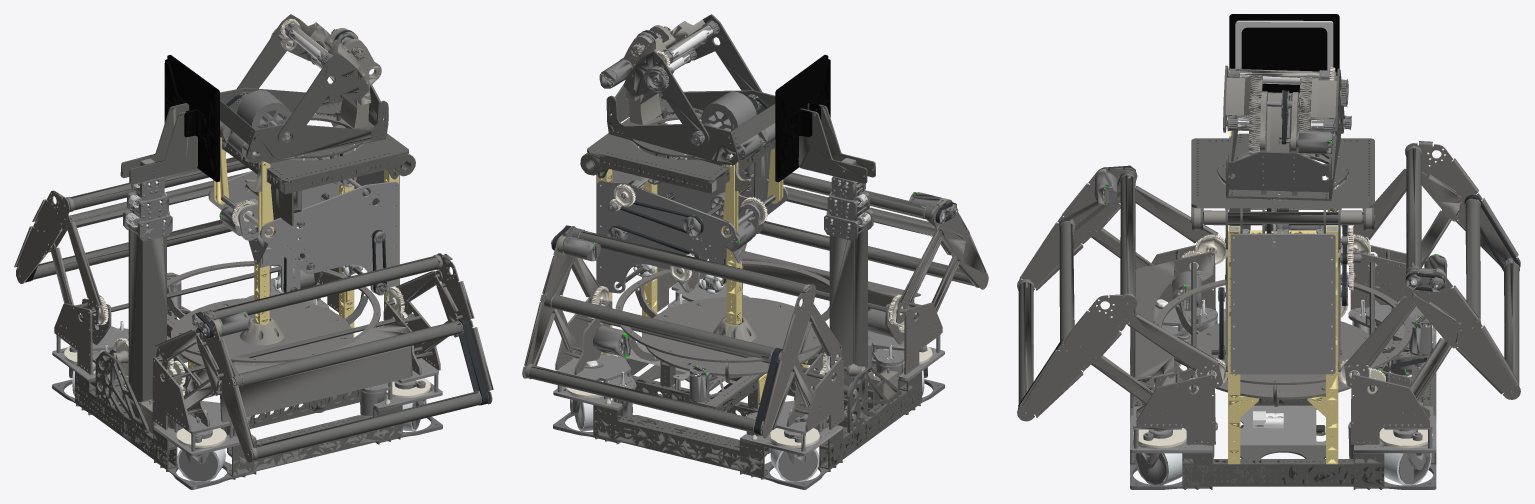
The model's file is hero-mantis-6800.glb.
3 renders of one model, left to right at view 1: azimuth 30°, elevation 25°; view 2: azimuth 150°, elevation 25°; view 3: azimuth 270°, elevation 25°, orthographic. The views are drawn at different scales.
Visible parts, largest first — view 1: intake-right, frame, magazine, intake-left, climber, turret, spindexer, climb-pad, hood, magazine-mount, shooter, flywheel (+2 smaller); view 2: frame, intake-left, magazine, intake-right, spindexer, turret, climber, climb-pad, hood, magazine-mount, shooter, flywheel (+2 smaller); view 3: intake-right, intake-left, magazine, frame, turret, spindexer, climb-pad, hood, shooter, magazine-mount.
Part boxes in pixels (box(x1,y1,x2,y2)): intake-right: box(152, 253, 493, 462); frame: box(52, 262, 442, 489); magazine: box(208, 113, 410, 337); intake-left: box(14, 157, 338, 374); climber: box(95, 210, 172, 433); turret: box(220, 28, 388, 163); spindexer: box(167, 261, 380, 373); climb-pad: box(120, 55, 220, 184); hood: box(236, 14, 371, 146); magazine-mount: box(213, 113, 415, 237); shooter: box(256, 114, 408, 183); flywheel: box(237, 90, 290, 129); frame: box(553, 278, 944, 489); intake-left: box(522, 225, 844, 437); magazine: box(585, 112, 787, 354); intake-right: box(657, 172, 988, 374); spindexer: box(615, 260, 829, 411); turret: box(599, 25, 775, 165); climber: box(794, 209, 901, 432); climb-pad: box(775, 54, 875, 183); hood: box(623, 14, 762, 146); magazine-mount: box(580, 112, 783, 236); shooter: box(587, 97, 761, 182); flywheel: box(701, 91, 756, 131); intake-right: box(1017, 165, 1227, 444); intake-left: box(1338, 141, 1520, 444); magazine: box(1191, 174, 1374, 464); frame: box(1130, 247, 1436, 489); turret: box(1217, 90, 1351, 209); spindexer: box(1154, 279, 1433, 425); climb-pad: box(1229, 14, 1339, 93); hood: box(1223, 65, 1351, 157); shooter: box(1191, 138, 1374, 208); magazine-mount: box(1191, 131, 1374, 230).
Bounding box in the file's own units: 0.6655 × 0.9055 × 1.04.
